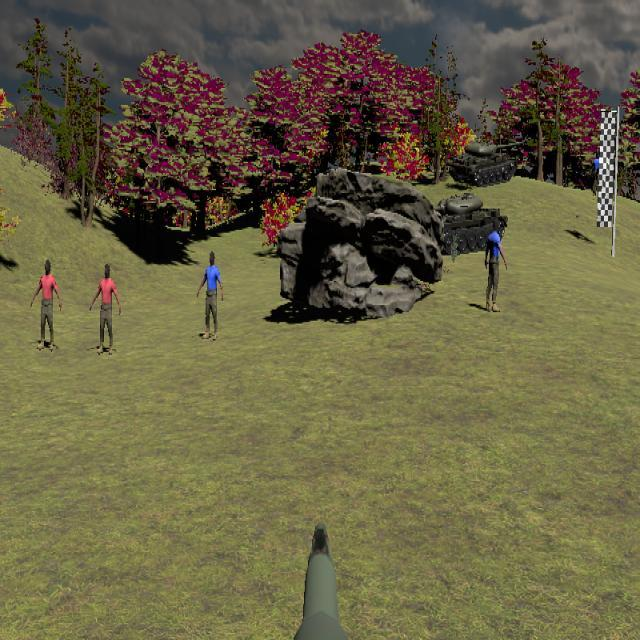Human: (90, 263, 121, 354), (30, 260, 61, 350), (90, 264, 121, 354), (196, 251, 224, 340), (485, 217, 506, 312)
Tank: (420, 192, 508, 257), (447, 140, 519, 187)
